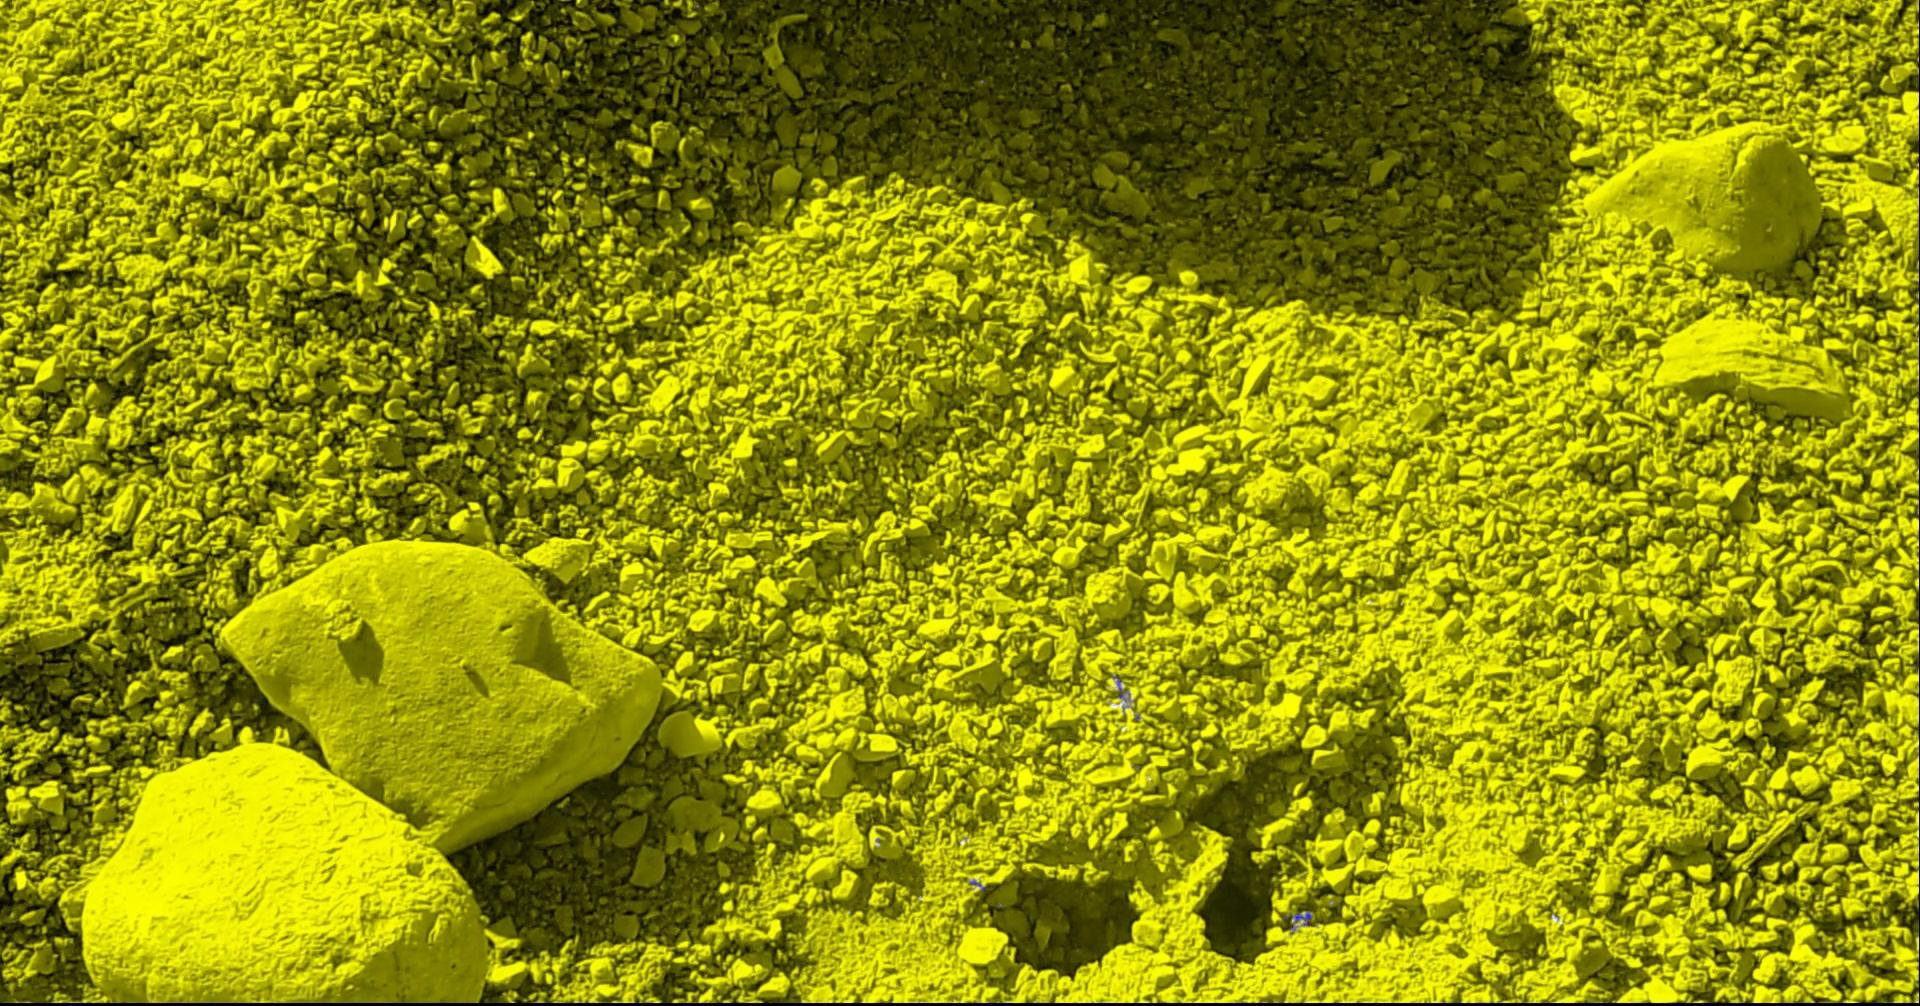ant: (1283, 909, 1310, 925)
